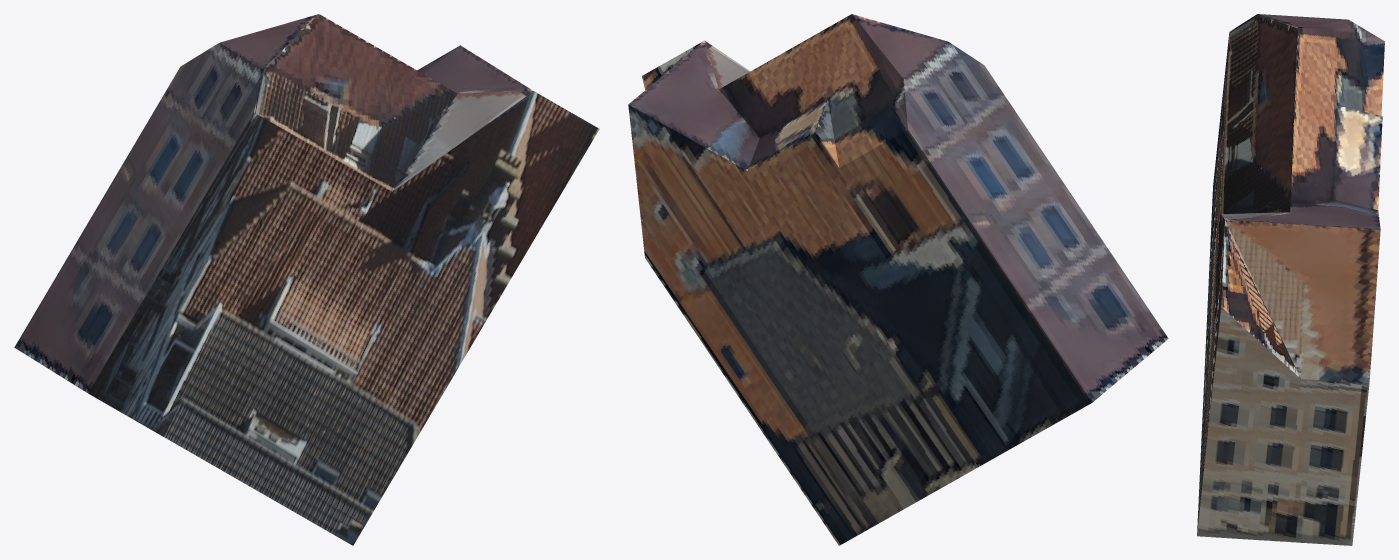
3 renders of one model, left to right at view 1: azimuth 30°, elevation 25°; view 2: azimuth 150°, elevation 25°; view 3: azimuth 270°, elevation 25°, orthographic. The views are drawn at different scales.
Visible parts, largest first — view 1: BAG_0599100000760365 (×3); view 2: BAG_0599100000760365 (×5); view 3: BAG_0599100000760365 (×5).
Boxes of the visible parts, x1,y1,x2,y2 form: BAG_0599100000760365 (×3): [14, 14, 599, 545]; BAG_0599100000760365 (×5): [628, 14, 1168, 545]; BAG_0599100000760365 (×5): [1197, 14, 1384, 545].
Size of the model in its own units: 25.21 by 23.46 by 7.62.
Materials: 5 (5 with a texture image).
